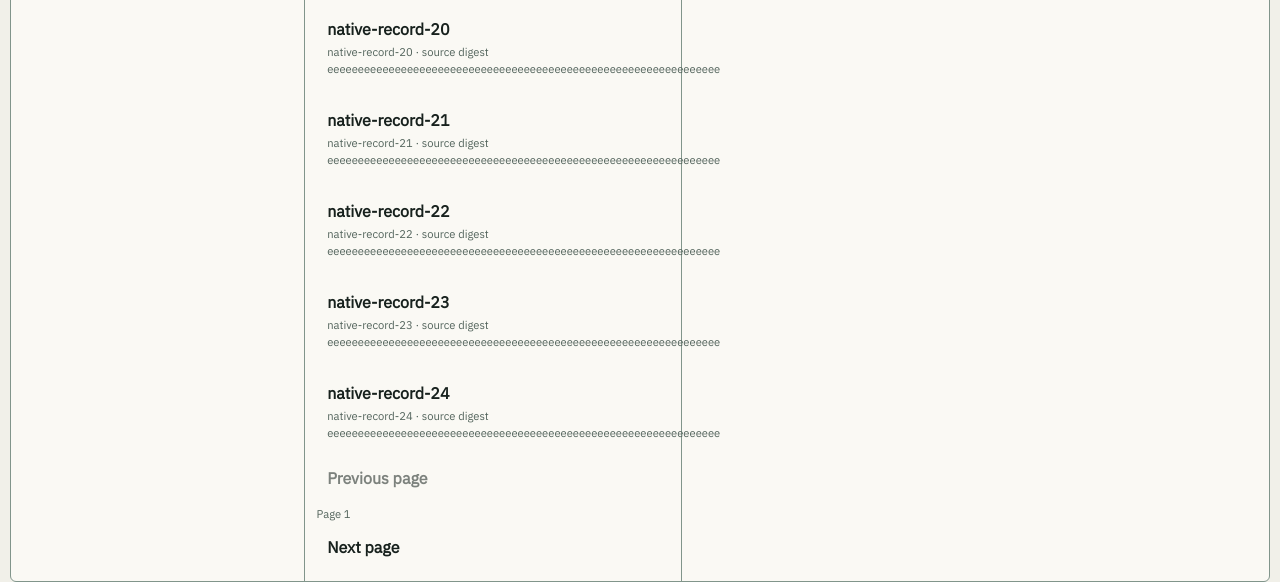
Test: Memory Vault interface › loads a second native memory page with the returned opaque cursor
This screenshot has width=1280, height=582.
(page scrolled)
Check: the text "native-record-29" is not shown
Click the button "Next page" at x=363, y=547, box [316, 524, 669, 570]
(page scrolled)
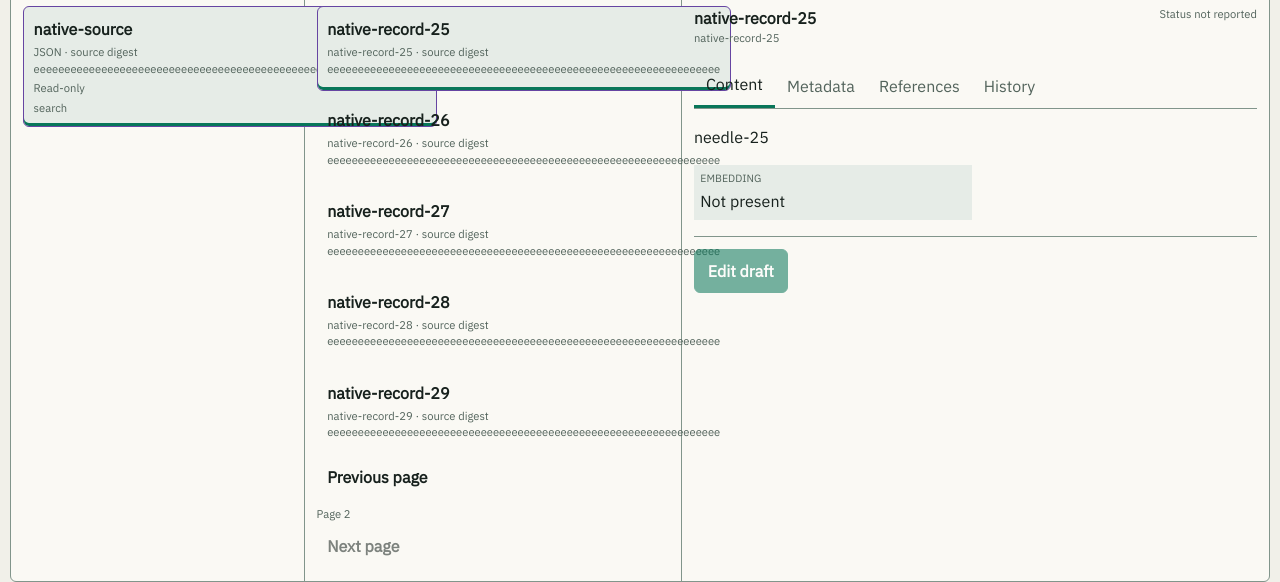
Check: the text "Page 2" is shown, box [316, 507, 350, 521]
